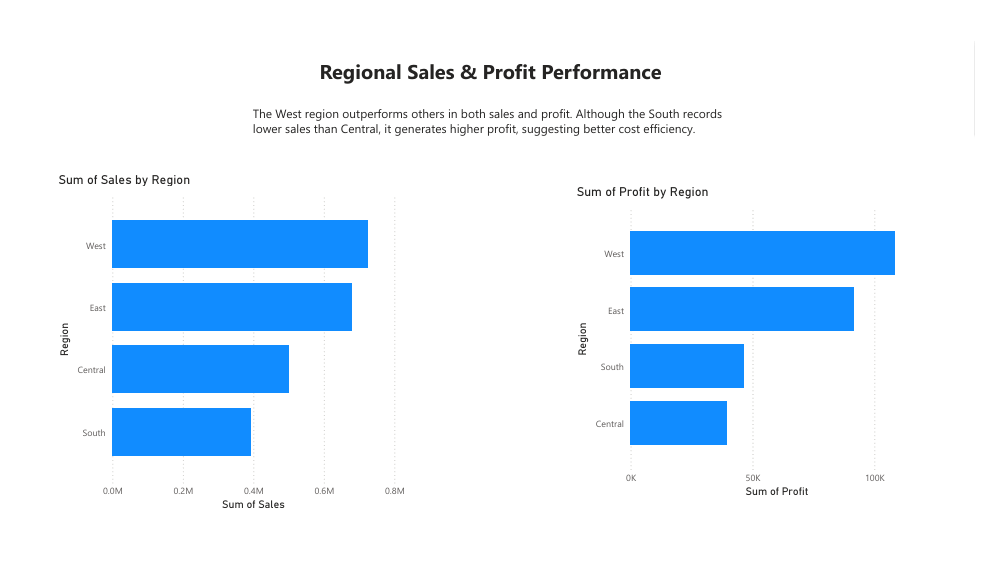

This screenshot's page, from the dashboard's own definition file:
{"tool":"powerbi","page":{"name":"Regional Performance","canvas":[1280,720],"ordinal":2},"visuals":[{"type":"clusteredBarChart","fields":{"Category":["Orders.Region"],"Y":["Sum(Orders.Sales)"]},"box":[52.9,208.7,471.7,457],"z":0},{"type":"clusteredBarChart","fields":{"Category":["Orders.Region"],"Y":["Sum(Orders.Profit)"]},"box":[743.5,226.3,486.4,421.7],"z":1},{"type":"textbox","box":[401.1,51.4,479,51.4],"z":2},{"type":"textbox","box":[311.5,114.6,656.8,52.9],"z":3}]}

Visuals, with their boxes in screenshot pixels (x1, y1, x2, y2), scaled from the page's 1280x720 canvas onto the 988x569 screenshot:
clusteredBarChart - Orders.Region x Sum(Orders.Sales): (41, 165, 405, 526)
clusteredBarChart - Orders.Region x Sum(Orders.Profit): (574, 179, 949, 512)
textbox: (310, 41, 679, 81)
textbox: (240, 91, 747, 132)
